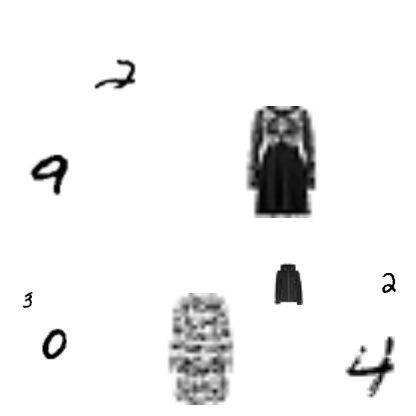0: (32, 323, 74, 365)
2: (93, 48, 149, 104), (375, 270, 403, 298)
3: (17, 288, 39, 310)
4: (331, 325, 415, 409), (159, 385, 173, 399)
9: (22, 143, 78, 199)
Coat: (267, 263, 309, 305)
Dress: (227, 106, 339, 218), (145, 293, 257, 405)
